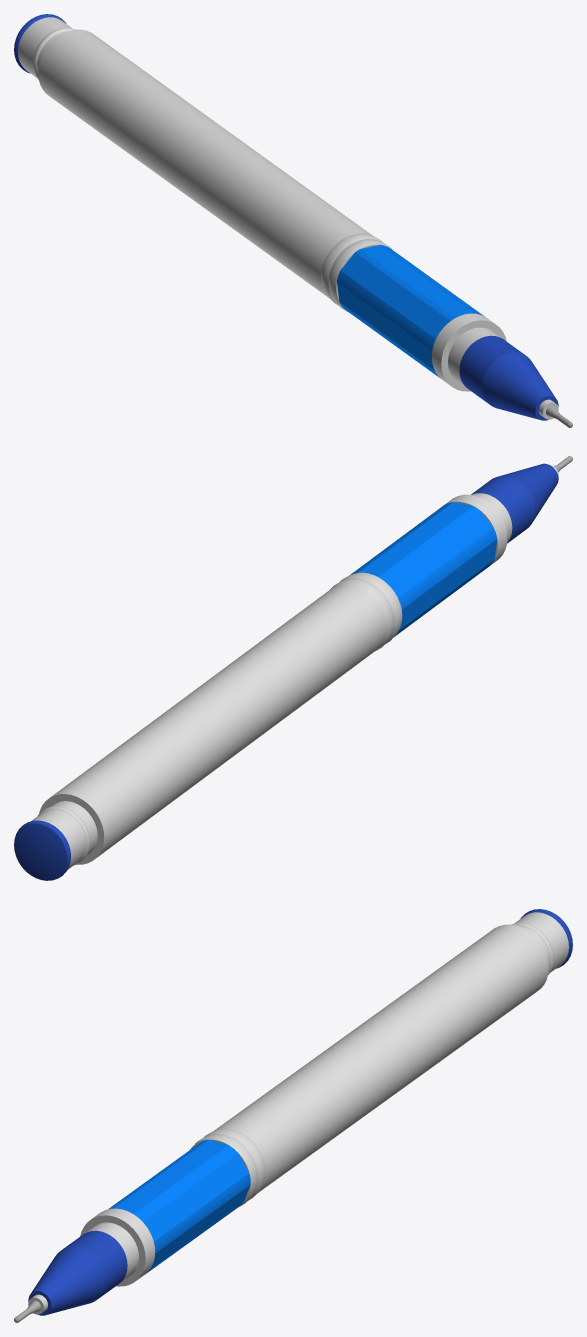
The picture shows the model from 3 angles, top to bottom: view 1: azimuth 30°, elevation 25°; view 2: azimuth 150°, elevation 25°; view 3: azimuth 330°, elevation 25°; orthographic projection.
Parts seen in each view (by area): view 1: pen, rubber, top; view 2: pen, rubber, top, bottom; view 3: pen, rubber, top.
Part boxes in pixels (x1,y1,x2,y2): pen: (18, 17, 506, 391); rubber: (336, 244, 484, 378); top: (459, 335, 558, 420); pen: (31, 493, 512, 869); rubber: (349, 502, 497, 636); top: (471, 463, 558, 543); bottom: (14, 820, 70, 880); pen: (80, 912, 568, 1286); rubber: (108, 1139, 250, 1274); top: (28, 1230, 127, 1315).
Size of the model in its own units: 0.0666 by 0.0689 by 0.9059.
